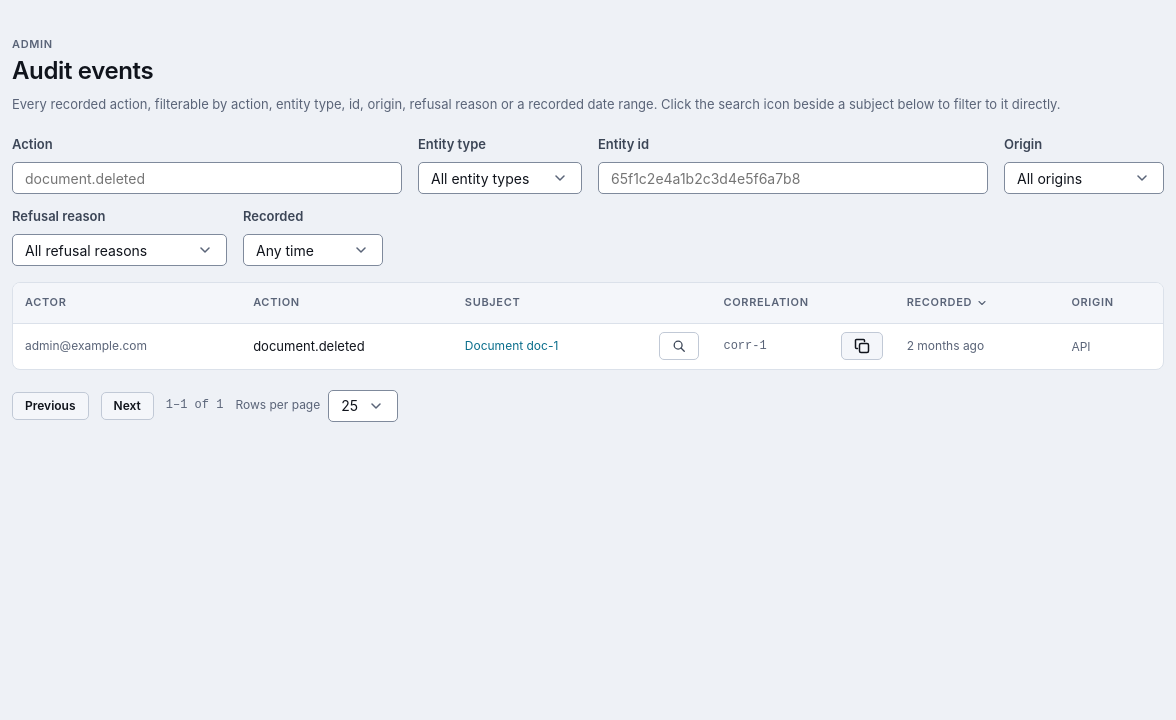
Test case: AuditEventsPage › never applies an invalid entity id: its error shows on the field without moving focus, and a valid id then applies
Expected: the text "document.deleted" is shown, [241,324,453,369]
Type "doc-1" into the field labelled "Entity id". click: (793, 178)
box: [598,162,988,194]
Wait 300 ms
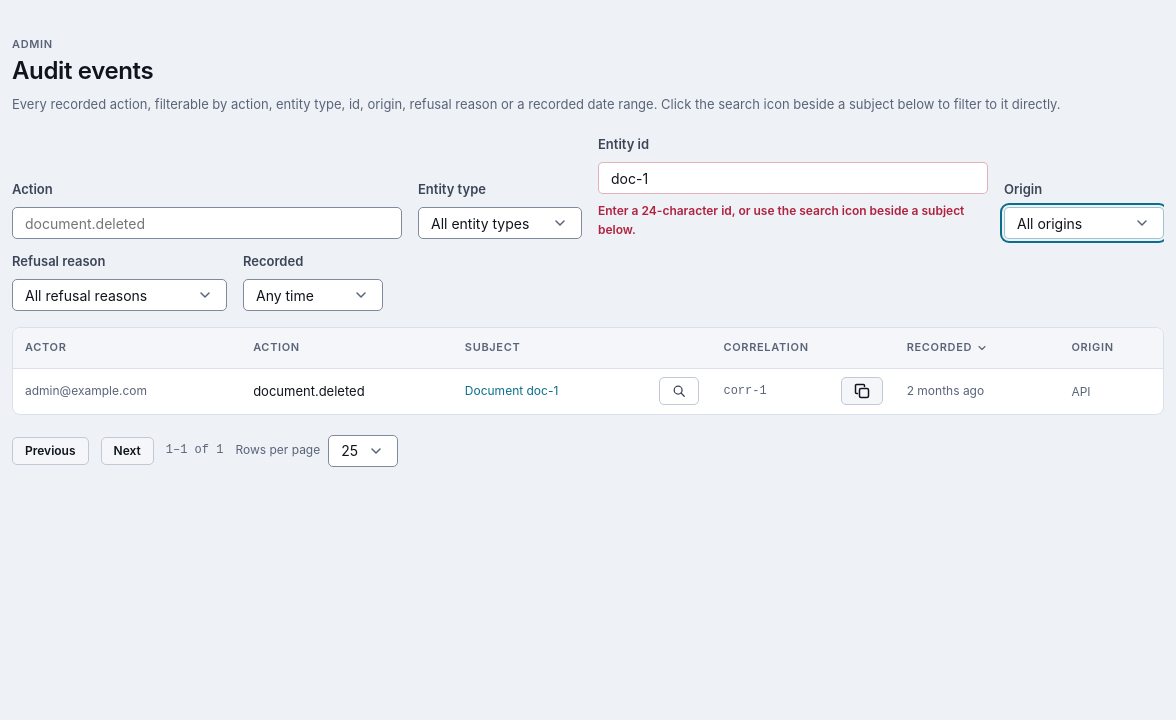
Expected: the field labelled "Entity id" is marked as invalid
Replace the text in the field labelled "Entity id" with "65f1c2e4a1b2c3d4e5f6a7b8". click: (793, 178)
box: [598,162,988,194]
Wait 300 ms
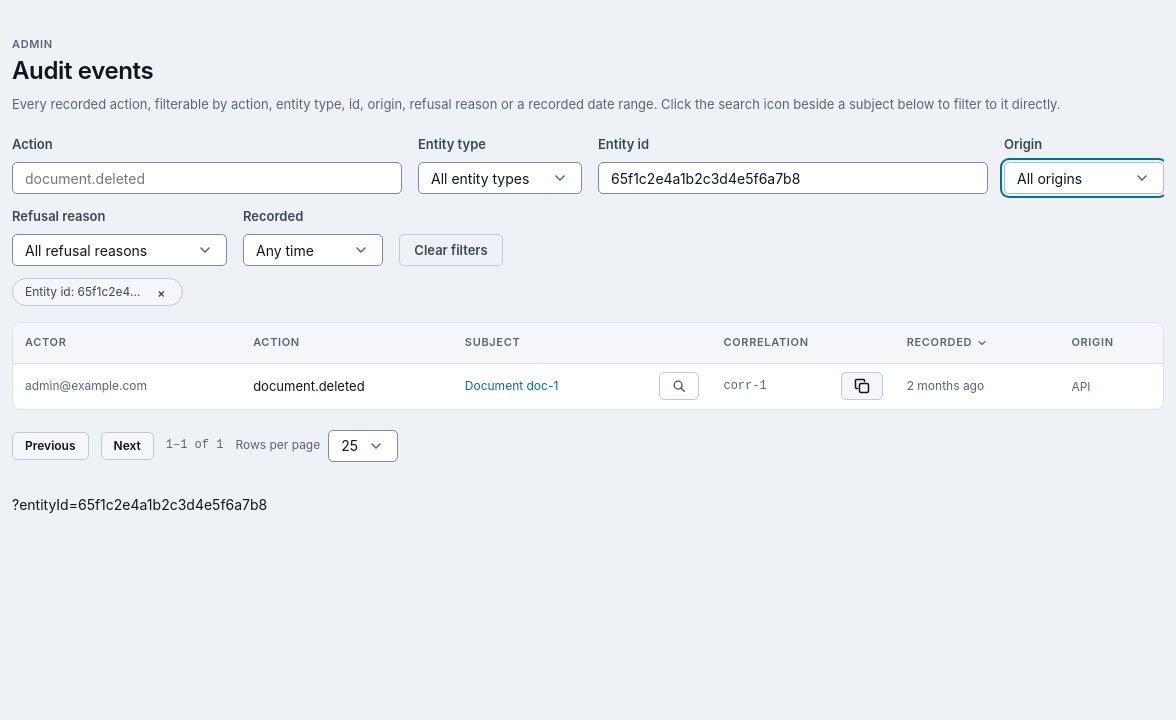
Expected: the text "Enter a 24-character id, or use the search icon beside a subject below." is gone
